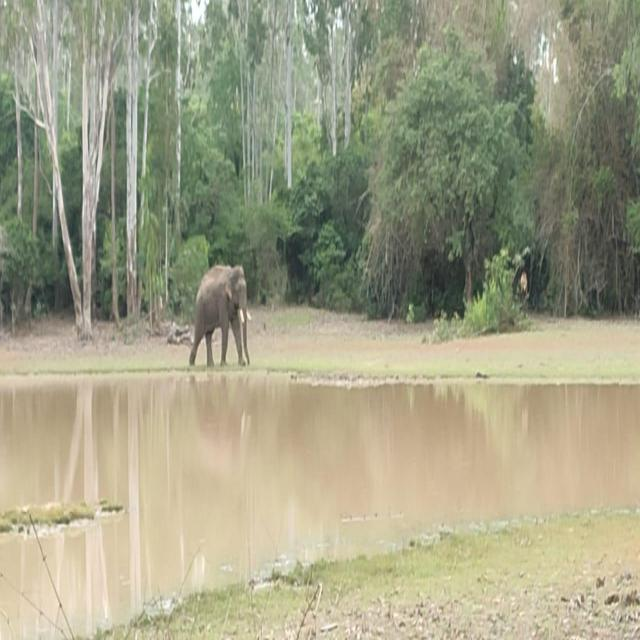Elephant: (188, 262, 250, 376)
